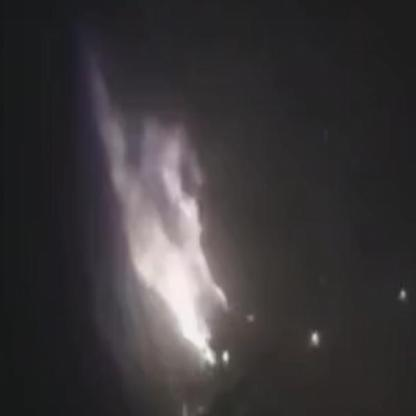smoke: (90, 65, 235, 369)
